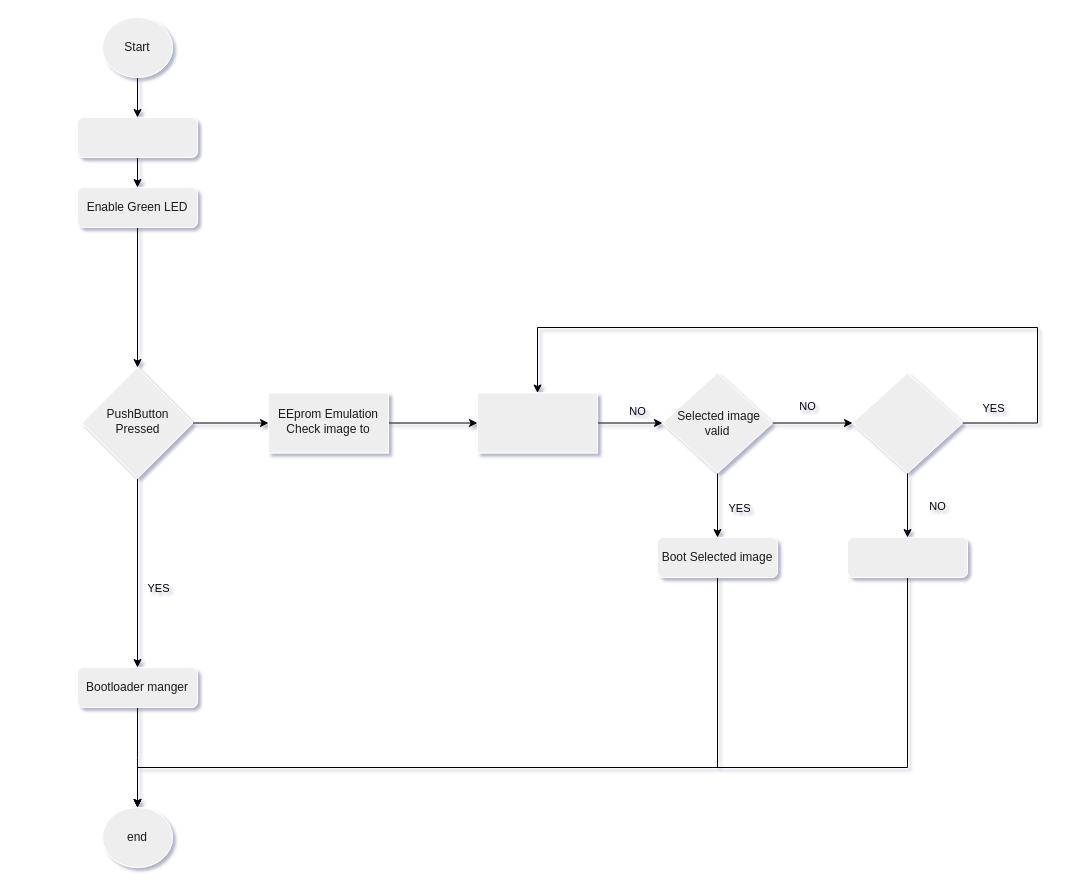
This 1069x891 diagram has some shape labels left out. Each missing label, with the centre of its shape:
"Another image available" goes at [907,422].
"Halt mode" goes at [907,557].
"Initialize Hal" goes at [137,137].
"Validation sequence" goes at [537,422].
